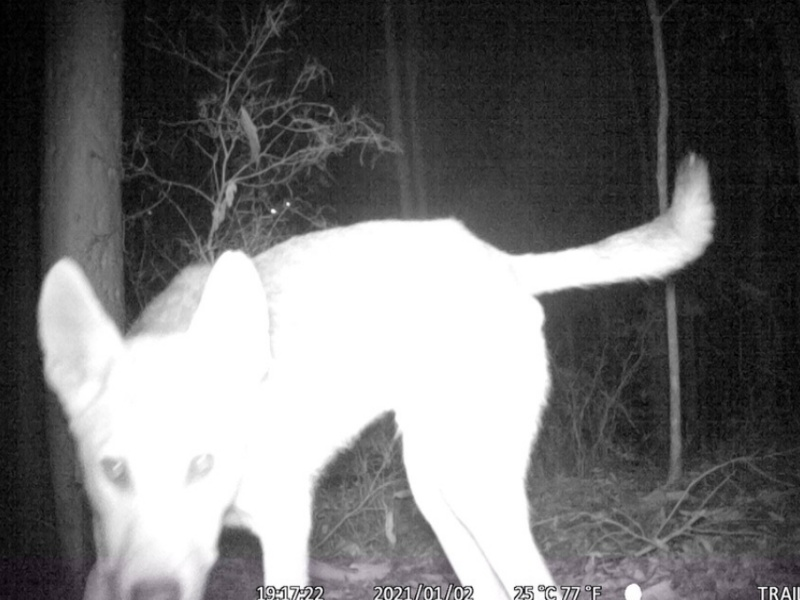dog: (34, 138, 723, 600)
